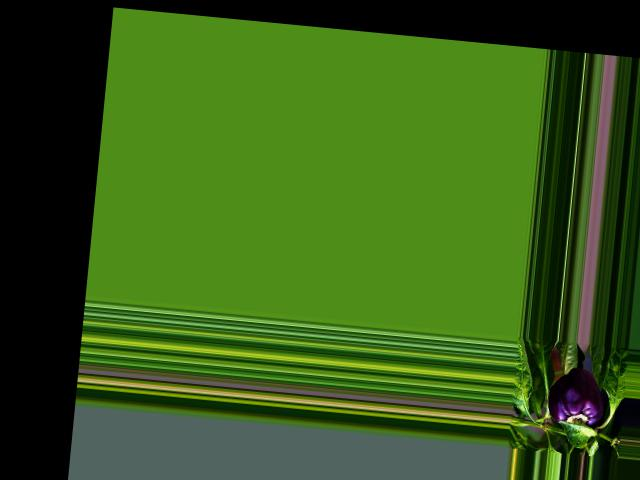bell_pepper: (544, 362, 607, 434)
